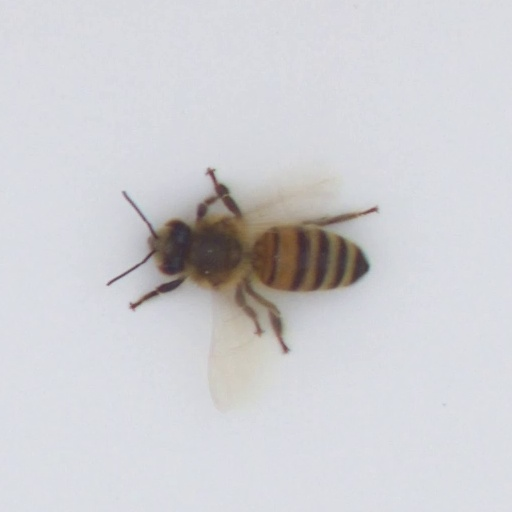Bee: (162, 227, 359, 287)
Thorax: (195, 215, 244, 283)
